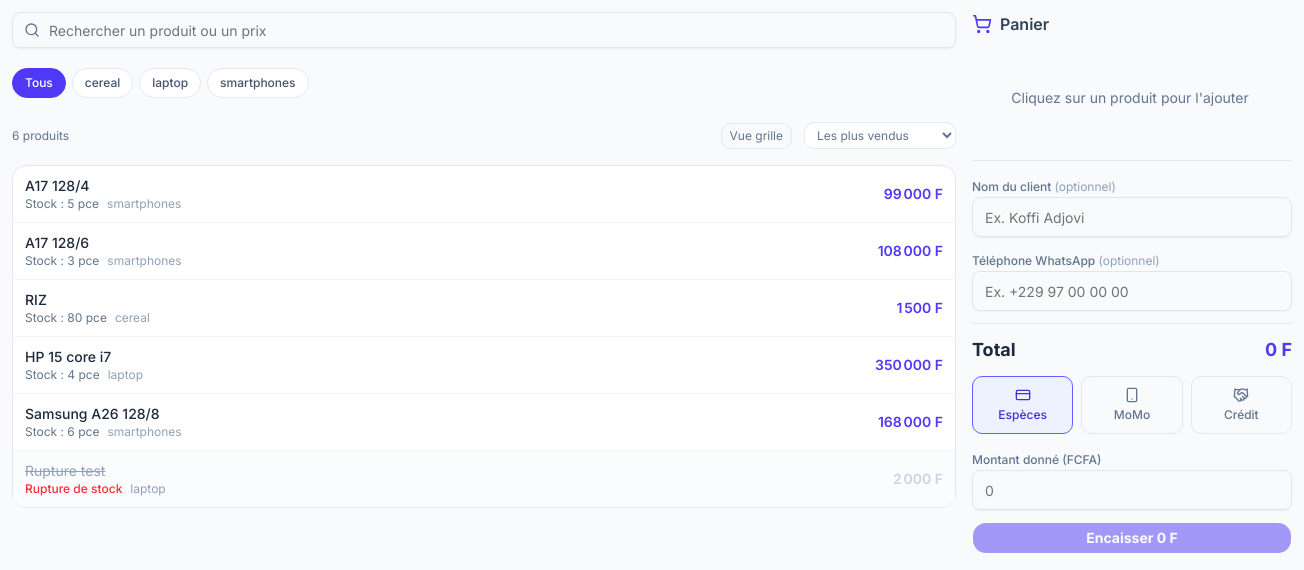
Test: POS — la barre de catégories › filtre sur une catégorie
Click the button "cereal". click: (102, 83)
box: [72,68,133,98]
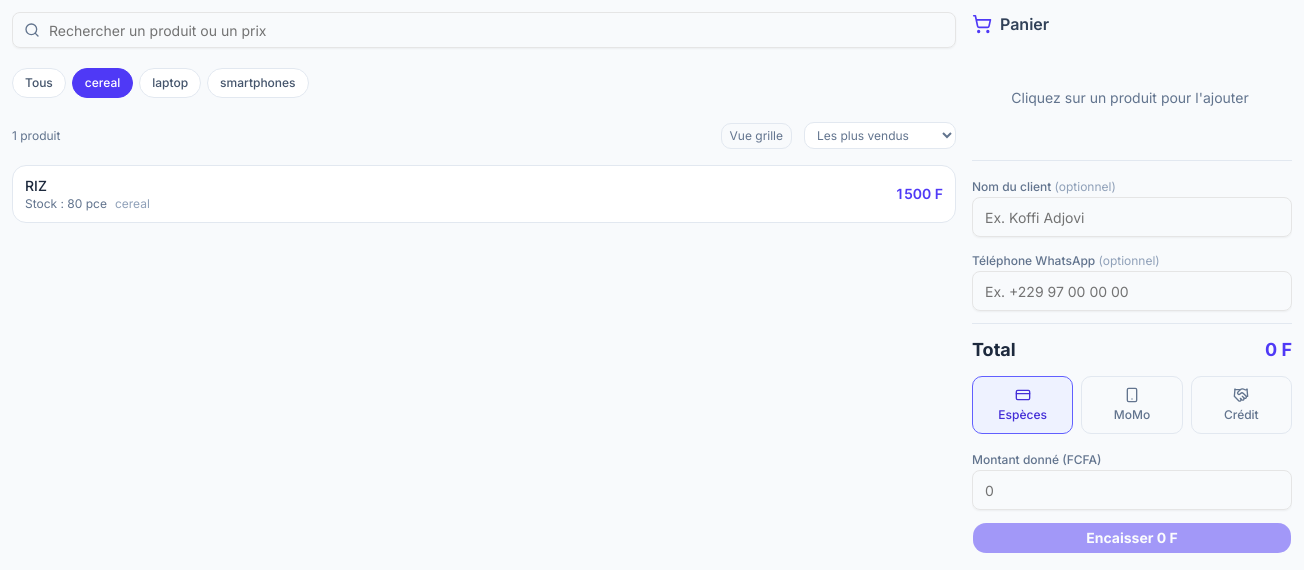
Expected: the text "RIZ" is shown, [25,177,47,194]
Expected: the button "A17 128/4" is gone
